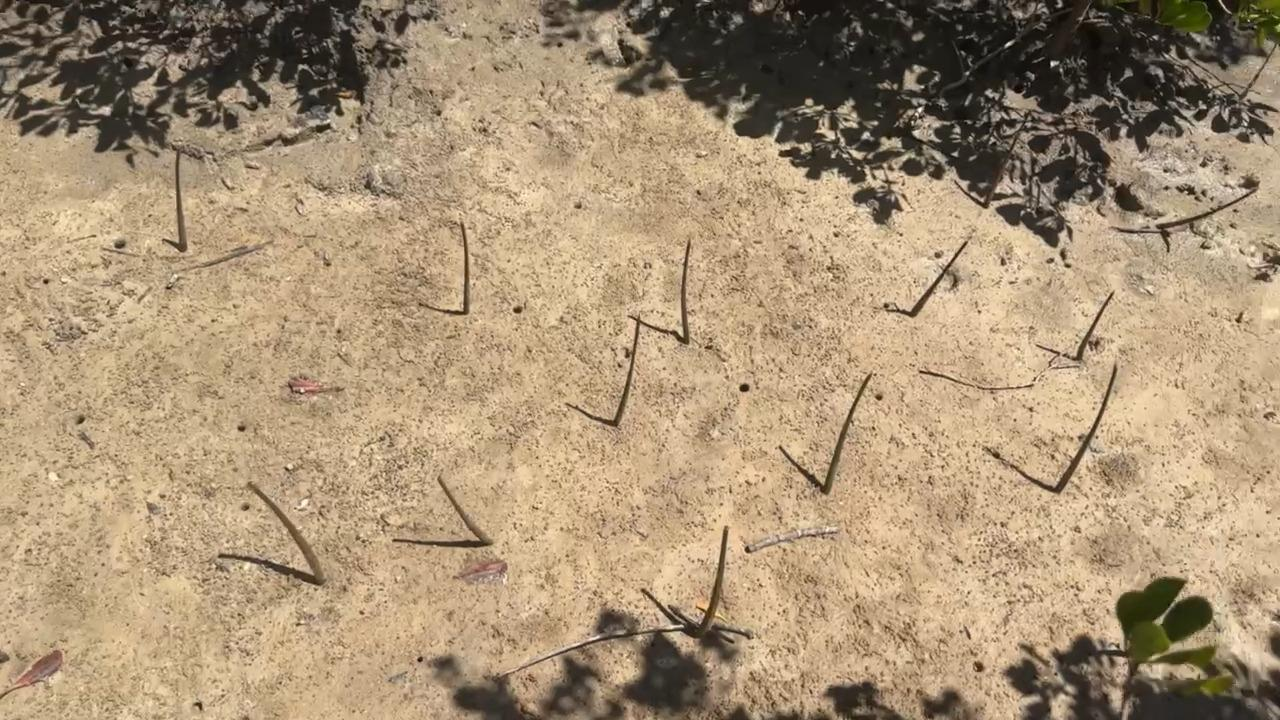Tree: (1049, 363, 1119, 494), (245, 479, 328, 587), (821, 372, 874, 495), (909, 239, 969, 318), (690, 524, 730, 638), (1155, 187, 1258, 230), (437, 473, 494, 545), (611, 312, 641, 428), (1074, 289, 1116, 362), (982, 134, 1020, 209), (1239, 42, 1279, 98), (174, 146, 188, 252), (680, 236, 693, 345), (458, 220, 472, 314)
